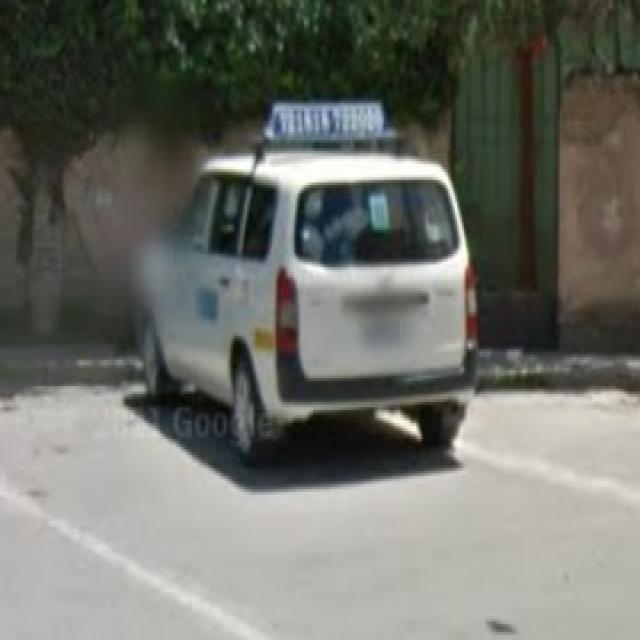cars: (142, 135, 474, 453)
